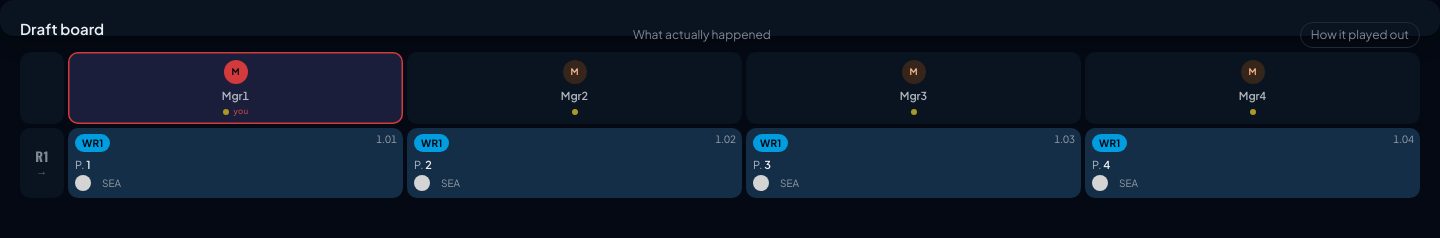
Test case: CompletedDraftBoard unavailable and failed grades › says the weeks are scored but lack game stats when weeksMissingGameData is non-empty
Click the button "How it played out" at (1360, 35), box [1300,22,1420,48]
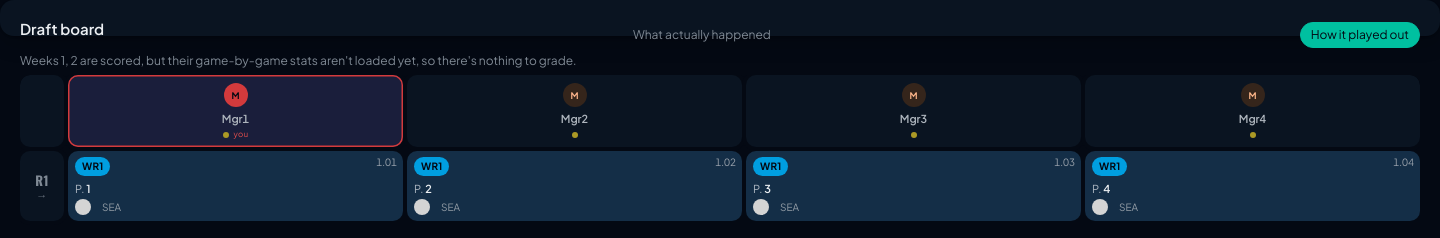
Now the text "Weeks 1, 2 are scored, but their game-by-game stats aren't loaded yet" is shown, box [20,53,577,68]
